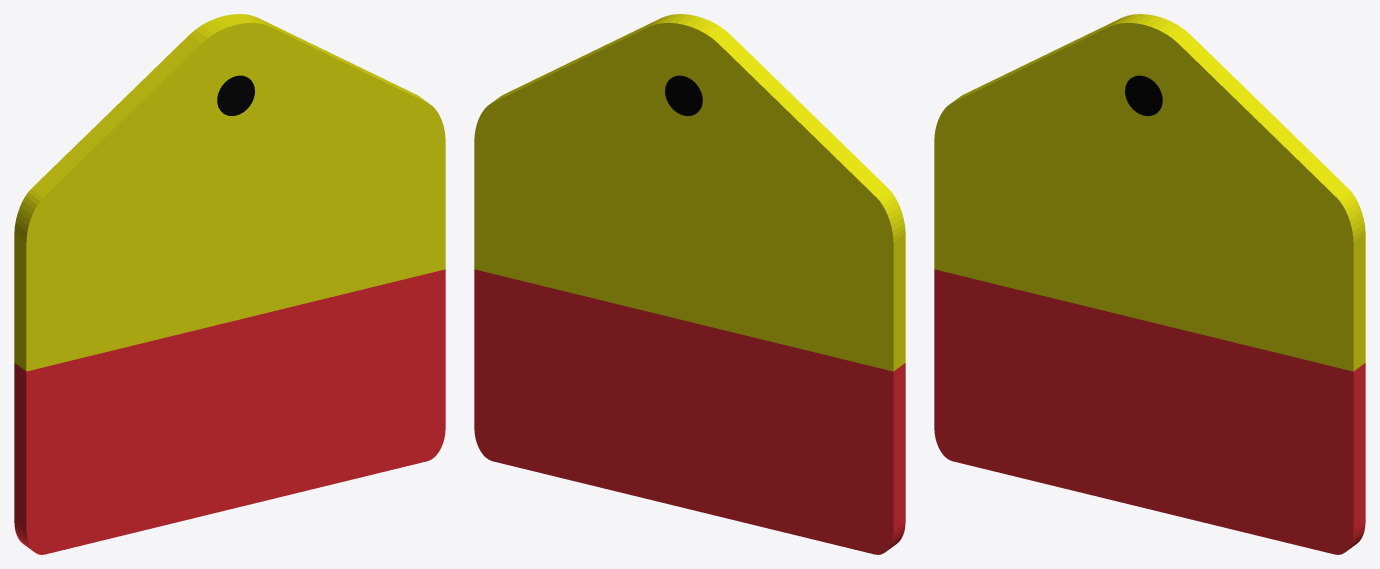
The model's file is Sale Tiket.fbx.
3 views of the same model, side by side, from view 1: azimuth 30°, elevation 25°; view 2: azimuth 150°, elevation 25°; view 3: azimuth 330°, elevation 25° (orthographic).
Visible parts, largest first — view 1: Sale_Tiket; view 2: Sale_Tiket; view 3: Sale_Tiket.
Part boxes in pixels (x1,y1,x2,y2): Sale_Tiket: (14,14,445,554); Sale_Tiket: (474,14,905,554); Sale_Tiket: (934,14,1365,554).
Bounding box in the file's own units: 200 × 220 × 10.19.
